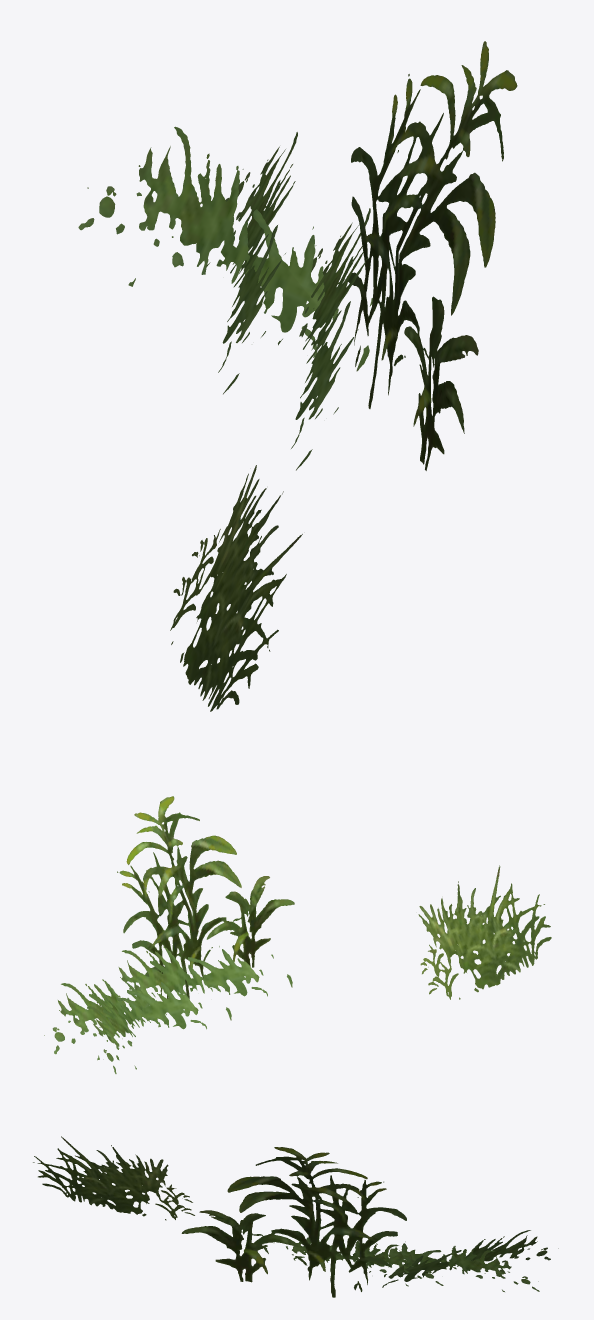
Rendered from zhiwu_06.FBX.
3 renders of one model, top to bottom at view 1: azimuth 30°, elevation 25°; view 2: azimuth 150°, elevation 25°; view 3: azimuth 270°, elevation 25°, orthographic. The views are drawn at different scales.
Visible parts, largest first — view 1: zhiwu_06; view 2: zhiwu_06; view 3: zhiwu_06.
Part boxes in pixels (x1,y1,x2,y2): zhiwu_06: (78, 41, 517, 711); zhiwu_06: (44, 796, 551, 1073); zhiwu_06: (33, 1136, 558, 1297).
Bounding box in the file's own units: 1.46 × 0.9407 × 2.41.
